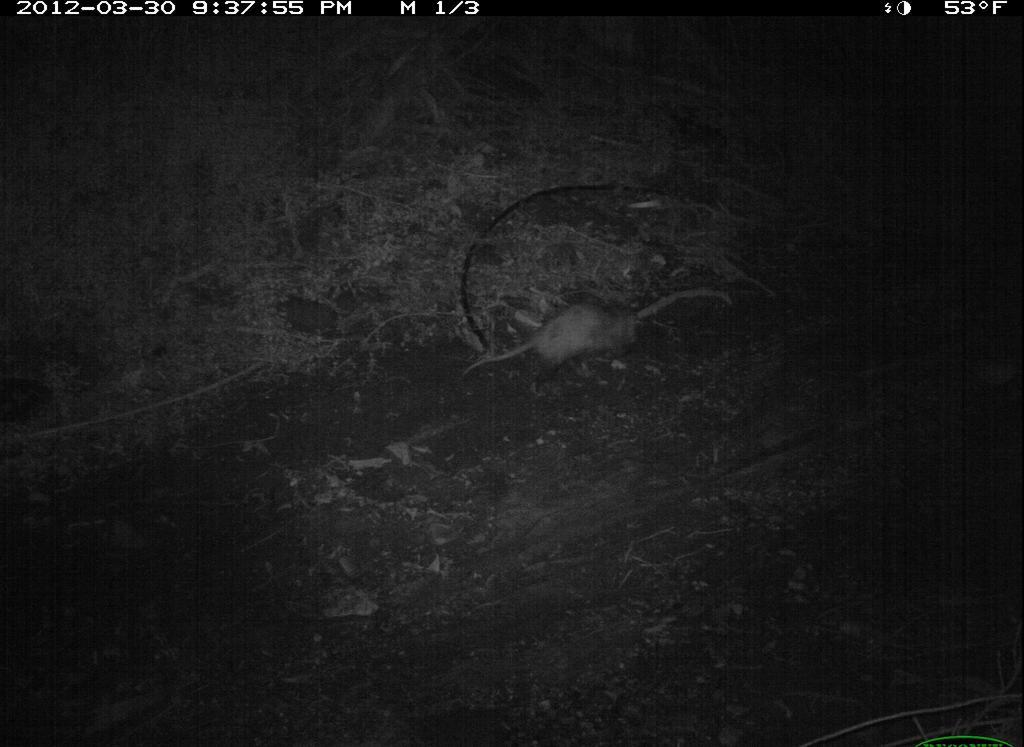opossum: (468, 277, 675, 400)
